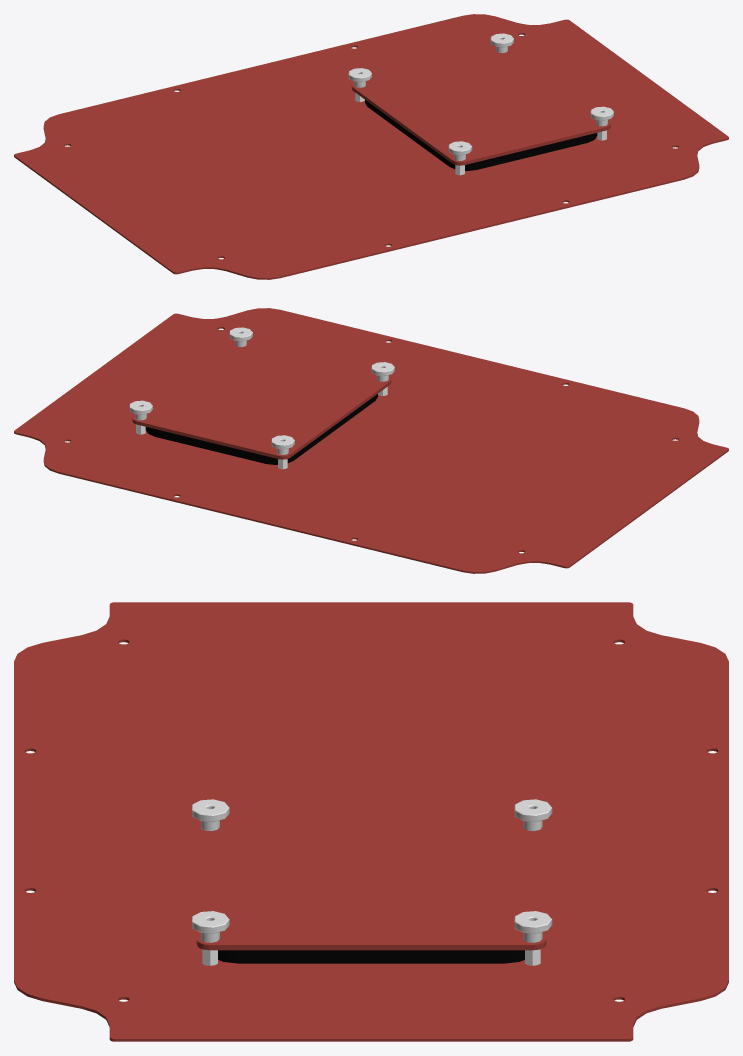
The model's file is dev01.dae.
The picture shows the model from 3 angles, top to bottom: view 1: azimuth 30°, elevation 25°; view 2: azimuth 150°, elevation 25°; view 3: azimuth 270°, elevation 25°; orthographic projection. The views are drawn at different scales.
Visible parts, largest first — view 1: DEV01; view 2: DEV01; view 3: DEV01.
Boxes of the visible parts, x1,y1,x2,y2 form: DEV01: (14, 14, 728, 279); DEV01: (14, 308, 728, 573); DEV01: (14, 602, 728, 1041).
Size of the model in its own units: 0.532 by 0.3679 by 0.0349.
